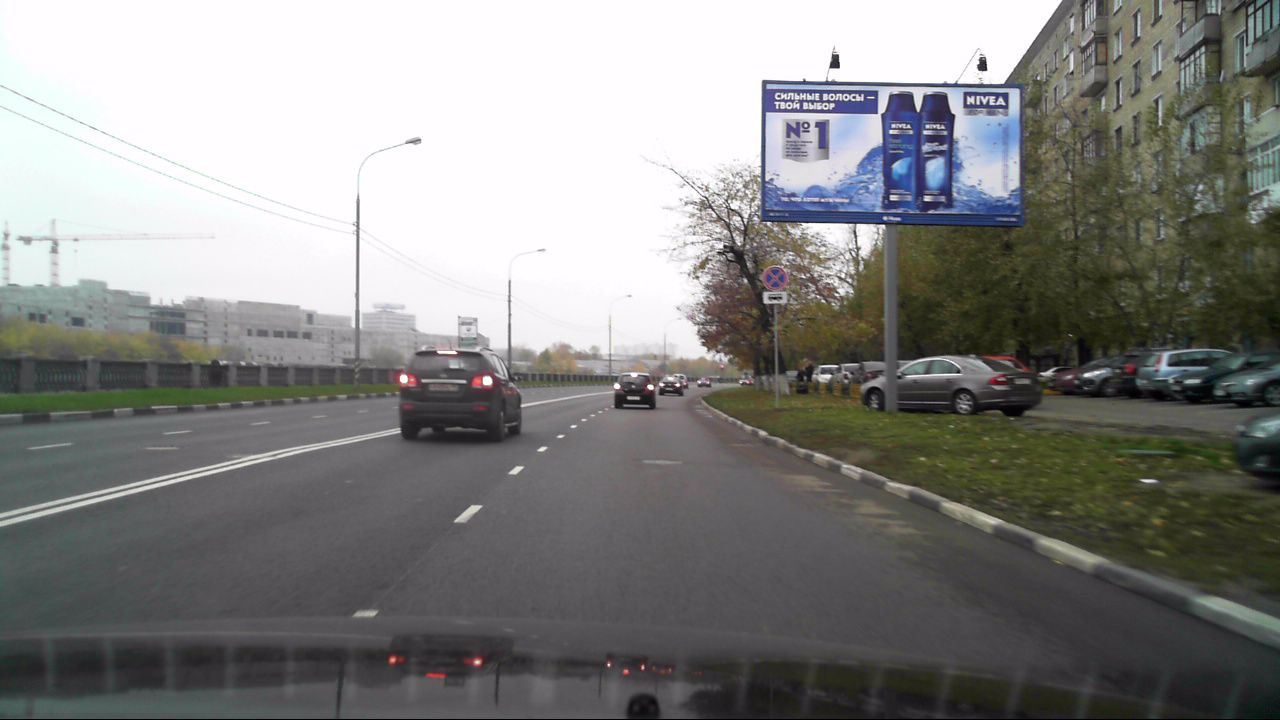No Parking: (761, 264, 787, 291)
